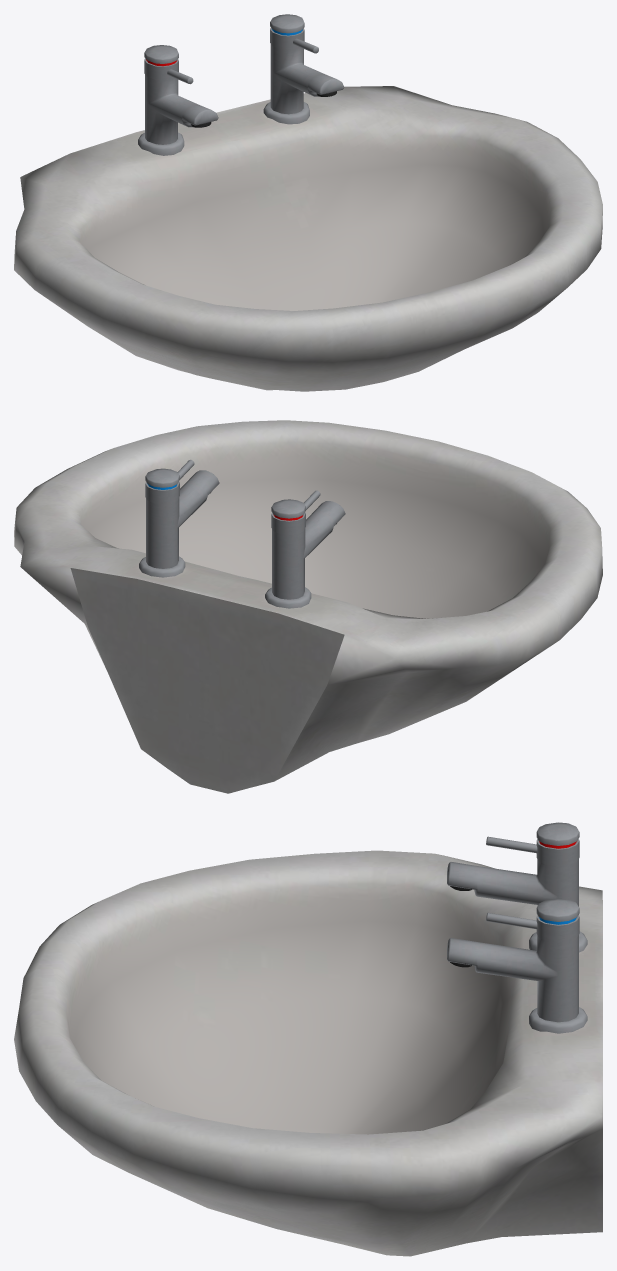
File: SM_Bathroom_Sink_01.glb
The picture shows the model from 3 angles, top to bottom: view 1: azimuth 30°, elevation 25°; view 2: azimuth 150°, elevation 25°; view 3: azimuth 270°, elevation 25°; orthographic projection. The views are drawn at different scales.
Visible parts, largest first — view 1: SM_Bathroom_Sink_01; view 2: SM_Bathroom_Sink_01; view 3: SM_Bathroom_Sink_01.
Part boxes in pixels (x1,y1,x2,y2): SM_Bathroom_Sink_01: (14,14,602,391); SM_Bathroom_Sink_01: (14,420,602,793); SM_Bathroom_Sink_01: (14,822,602,1256).
Bounding box in the file's own units: 0.6954 × 0.3611 × 0.5451.
1 material, 1 textured.
